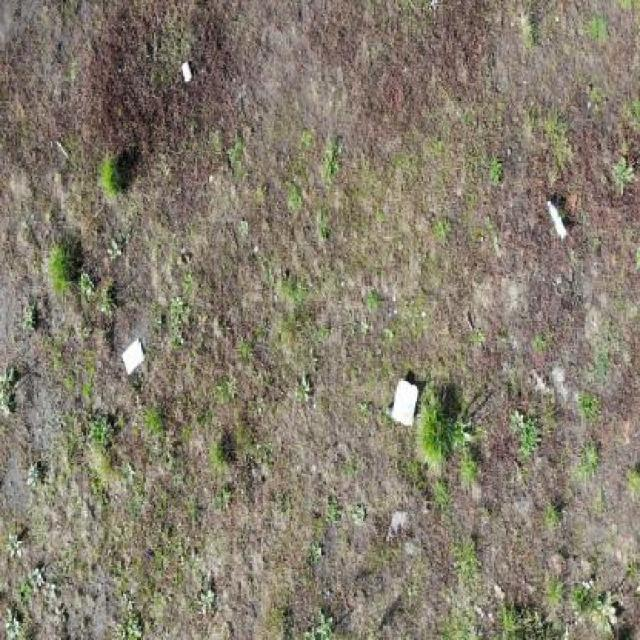Garbage: (392, 377, 419, 428), (120, 335, 146, 375), (546, 199, 568, 241), (180, 58, 194, 83), (383, 408, 400, 424)
